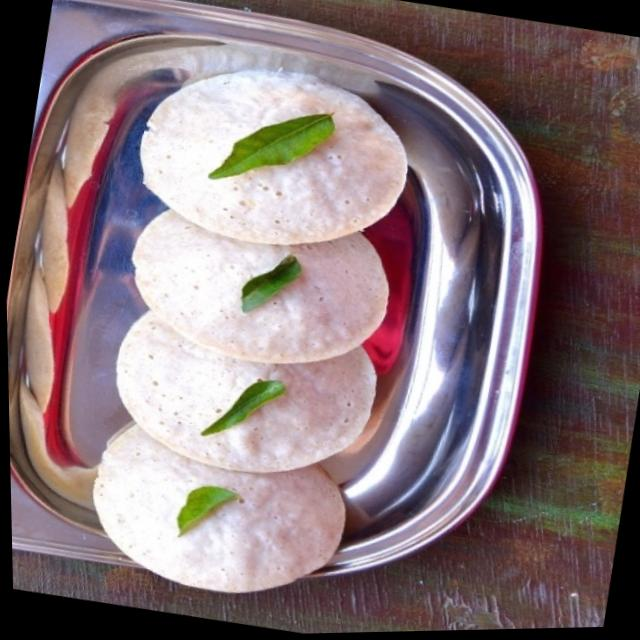IDLI: (91, 69, 406, 592)
